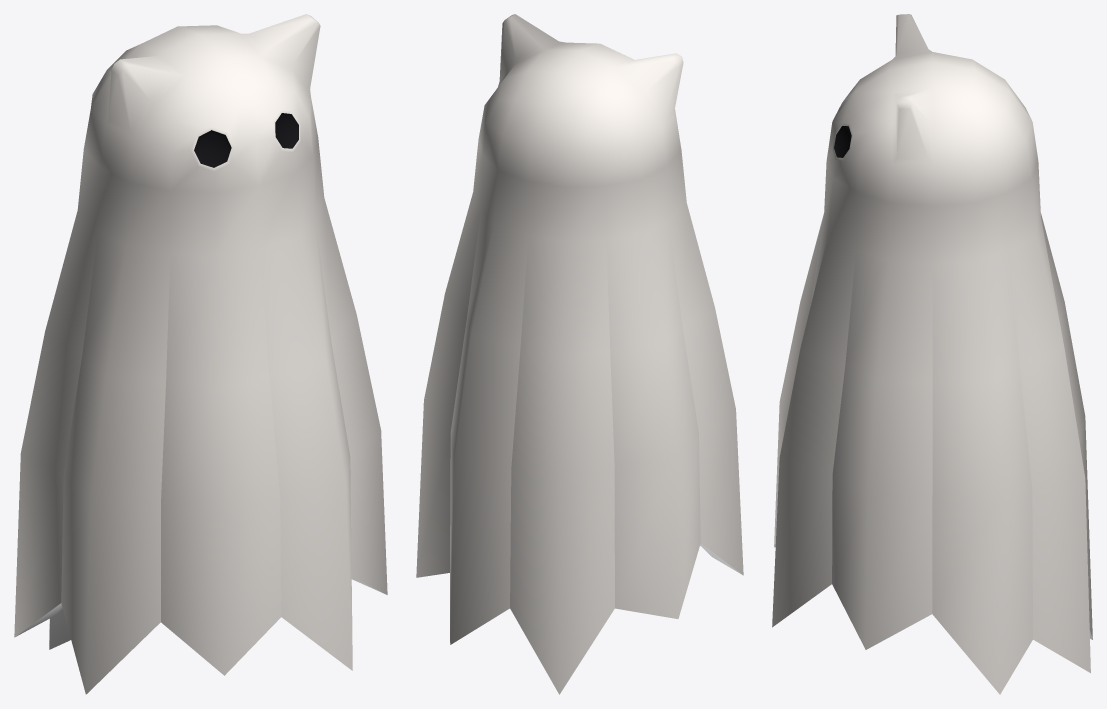
File: Ghost_3.fbx
The picture shows the model from 3 angles, left to right: view 1: azimuth 30°, elevation 25°; view 2: azimuth 150°, elevation 25°; view 3: azimuth 270°, elevation 25°; orthographic projection. The views are drawn at different scales.
Parts seen in each view (by area): view 1: Ghost_3; view 2: Ghost_3; view 3: Ghost_3.
Part boxes in pixels (bbox=[...]): Ghost_3: bbox=[14, 14, 387, 694]; Ghost_3: bbox=[416, 14, 743, 694]; Ghost_3: bbox=[772, 14, 1092, 694].
Bounding box in the file's own units: 17.89 × 37.73 × 17.89.
